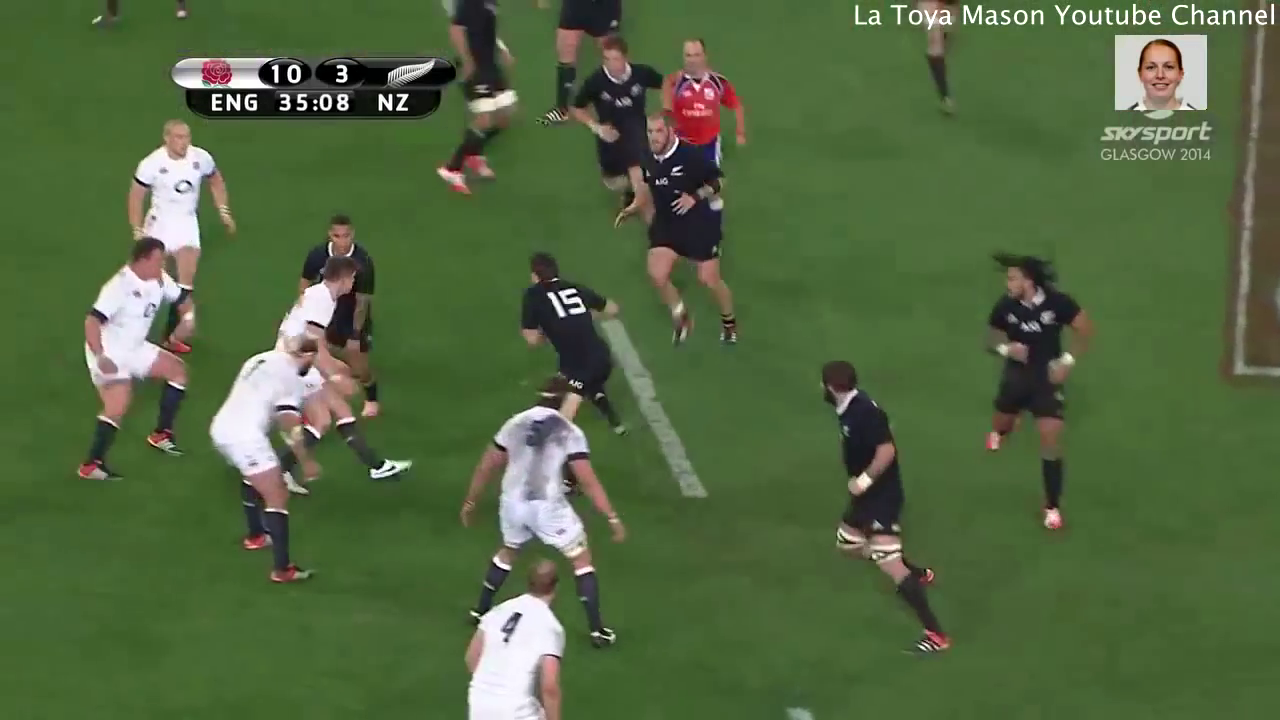player: (455, 373, 626, 653), (805, 355, 957, 664), (973, 239, 1102, 546), (74, 224, 191, 491), (207, 332, 317, 597), (632, 109, 750, 353), (514, 243, 639, 449), (107, 111, 237, 304), (424, 1, 536, 197), (456, 553, 574, 720), (570, 28, 667, 208), (652, 35, 756, 158), (275, 253, 358, 365), (284, 220, 377, 308)
